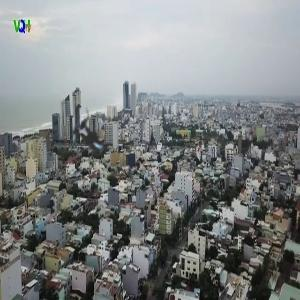drone: (43, 92, 143, 192)
